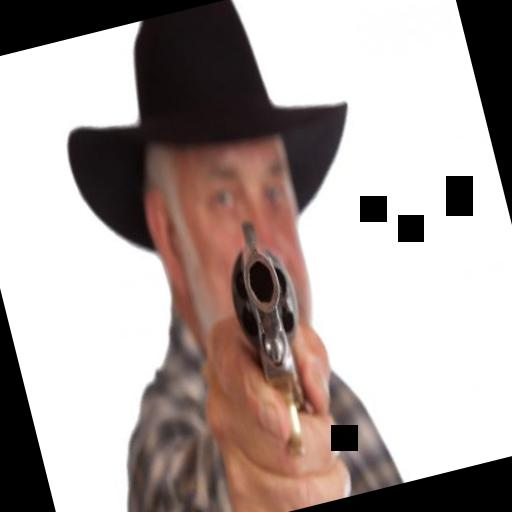Handgun: (212, 206, 332, 460)
